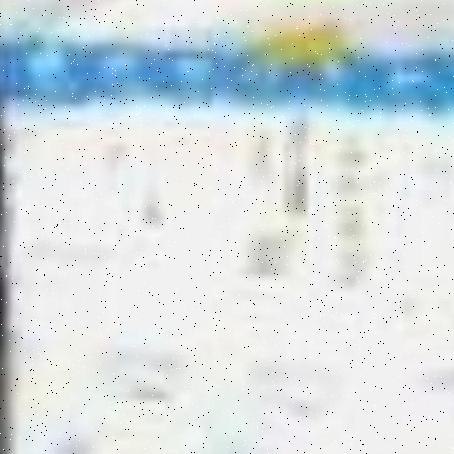Amazon: (16, 28, 454, 454)
